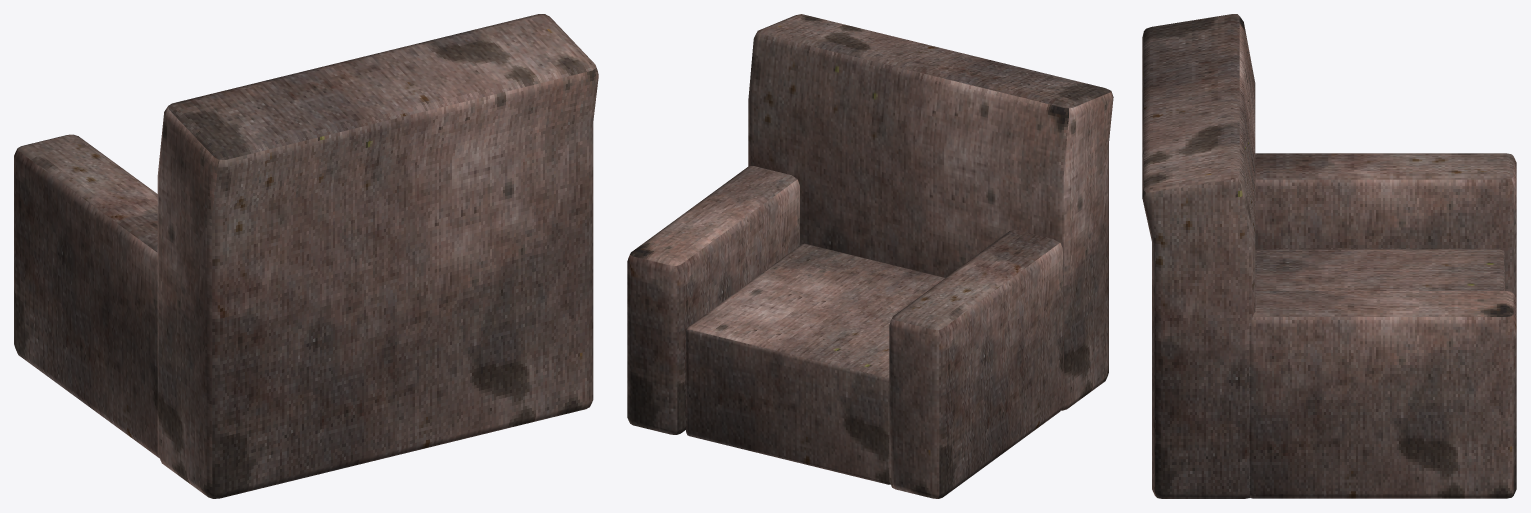
The model's file is _Armchair_2.FBX.
3 views of the same model, side by side, from view 1: azimuth 30°, elevation 25°; view 2: azimuth 150°, elevation 25°; view 3: azimuth 270°, elevation 25° (orthographic). The views are drawn at different scales.
Parts seen in each view (by area): view 1: _Armchair_2; view 2: _Armchair_2; view 3: _Armchair_2.
Boxes of the visible parts, x1,y1,x2,y2 form: _Armchair_2: [14, 14, 598, 498]; _Armchair_2: [627, 14, 1113, 498]; _Armchair_2: [1142, 14, 1516, 498].
Size of the model in its own units: 385 by 347 by 363.
Materials: 1 (1 with a texture image).
